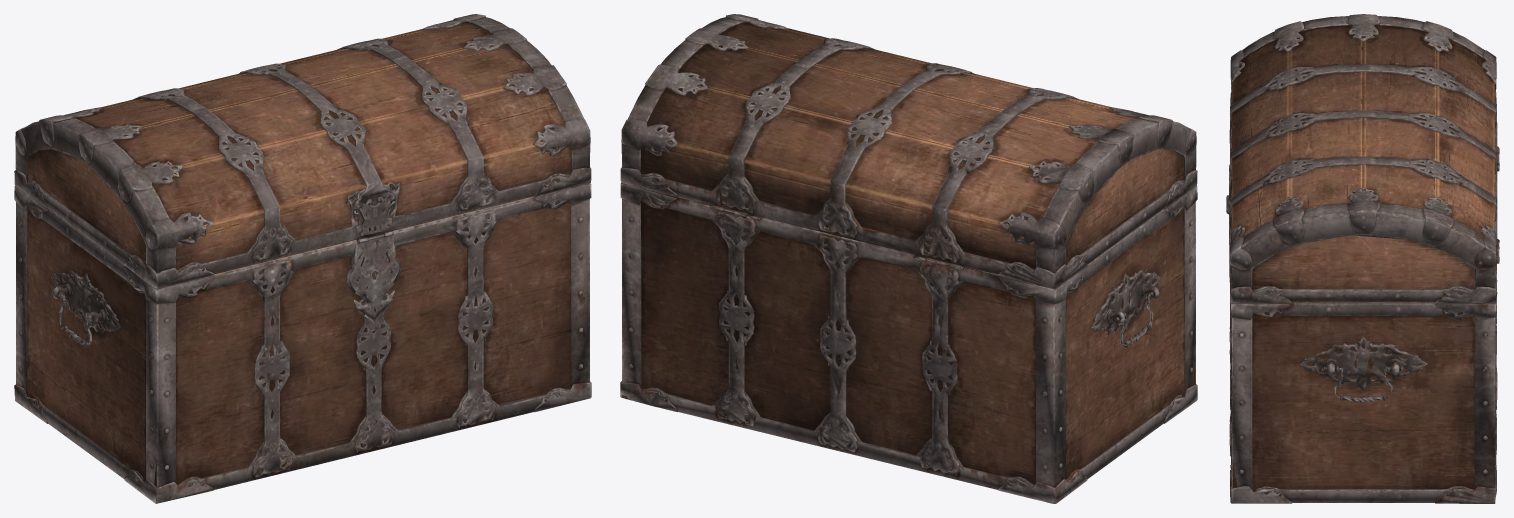
The model's file is treasure_chest.glb.
The picture shows the model from 3 angles, left to right: view 1: azimuth 30°, elevation 25°; view 2: azimuth 150°, elevation 25°; view 3: azimuth 270°, elevation 25°; orthographic projection. The views are drawn at different scales.
Visible parts, largest first — view 1: treasure_chest_bottom, treasure_chest_lid, treasure_chest_lock; view 2: treasure_chest_bottom, treasure_chest_lid; view 3: treasure_chest_lid, treasure_chest_bottom, treasure_chest_handle_right.
Part boxes in pixels (x1,y1,x2,y2): treasure_chest_bottom: (14,183,591,503); treasure_chest_lid: (14,14,591,288); treasure_chest_lock: (350,234,399,322); treasure_chest_bottom: (620,183,1197,503); treasure_chest_lid: (620,14,1197,288); treasure_chest_lid: (1226,14,1499,303); treasure_chest_bottom: (1229,134,1499,503); treasure_chest_handle_right: (1322,365,1405,402).
Bounding box in the file's own units: 0.959 × 0.618 × 0.5223.
Materials: 1 (1 with a texture image).
